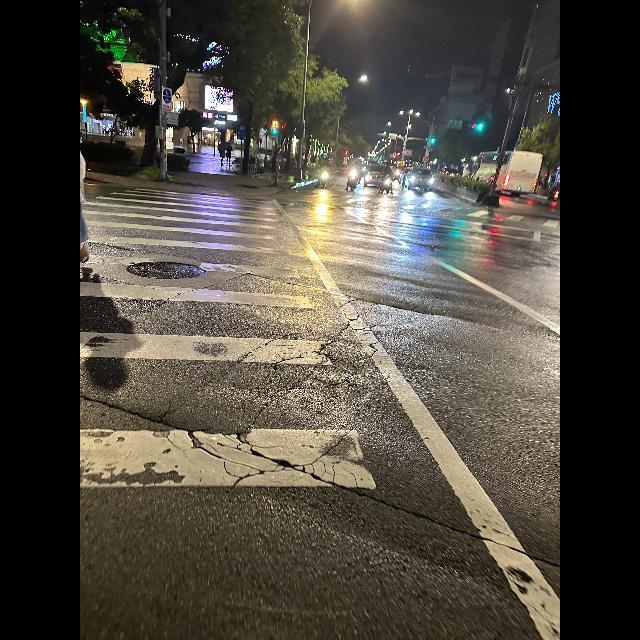sidewalk: (80, 185, 382, 490)
